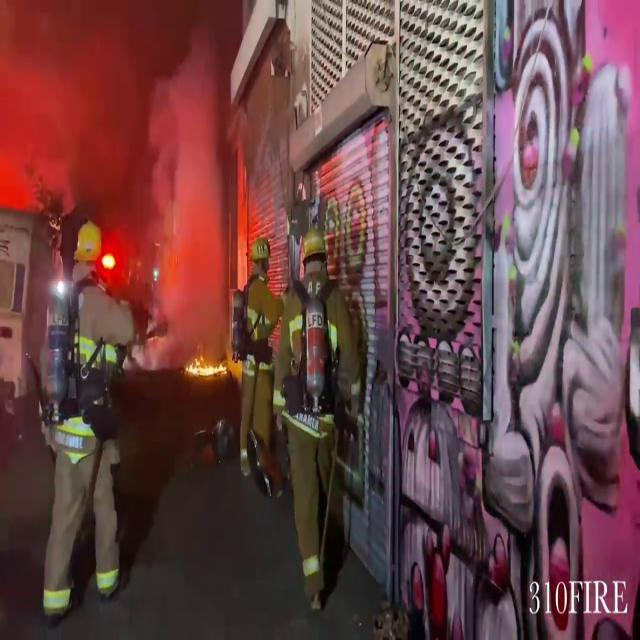Fire: (185, 346, 235, 384)
Smoke: (0, 0, 236, 326)
